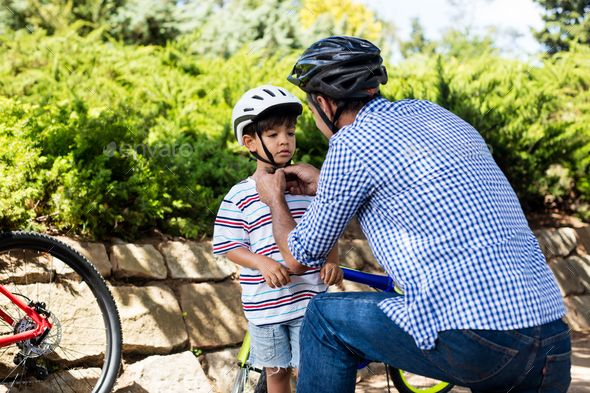helmet: (287, 36, 388, 137), (232, 87, 303, 166)
